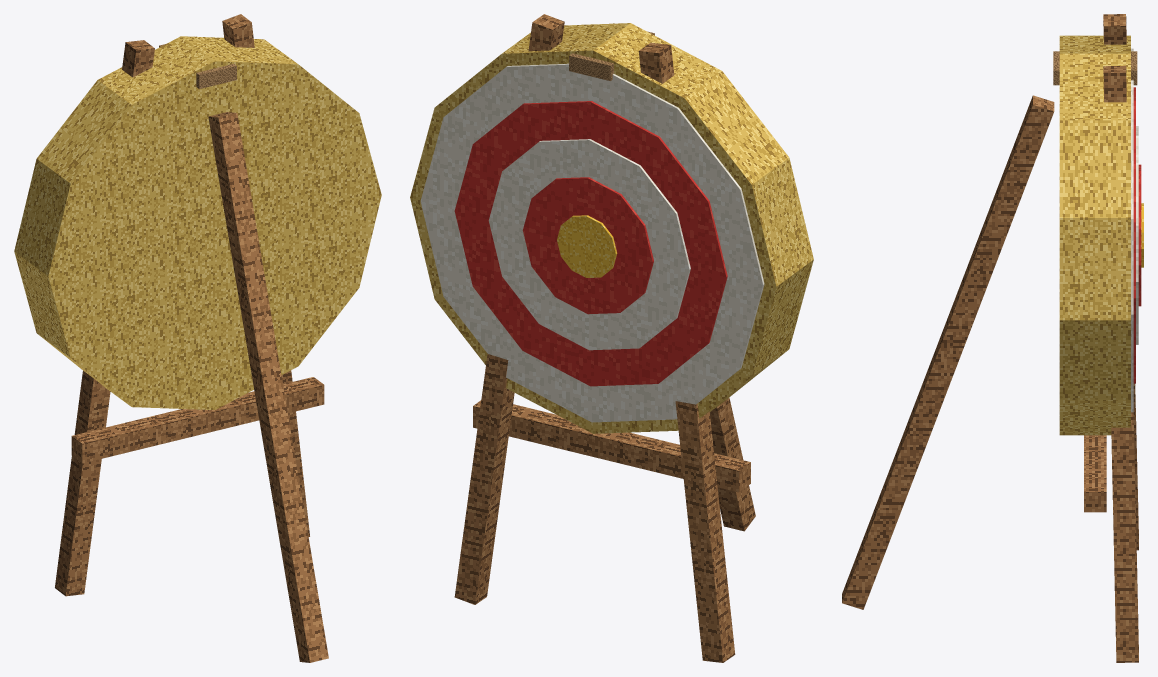
File: archery_target.glb
The picture shows the model from 3 angles, left to right: view 1: azimuth 30°, elevation 25°; view 2: azimuth 150°, elevation 25°; view 3: azimuth 270°, elevation 25°; orthographic projection. The views are drawn at different scales.
Visible parts, largest first — view 1: ArcheryTarget; view 2: ArcheryTarget; view 3: ArcheryTarget.
Boxes of the visible parts, x1,y1,x2,y2 form: ArcheryTarget: (14,14,381,662); ArcheryTarget: (410,14,813,662); ArcheryTarget: (842,14,1143,662).
Bounding box in the file's own units: 1.24 × 1.92 × 0.9331.
Materials: 6 (6 with a texture image).
